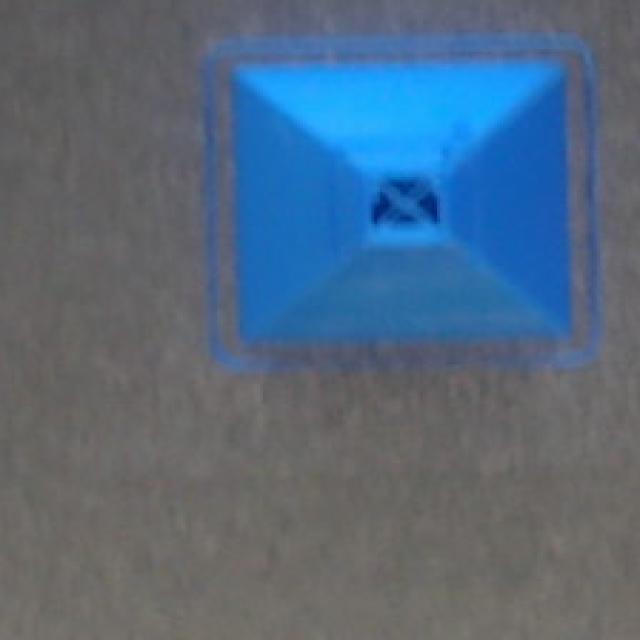mistake: (232, 59, 588, 353)
